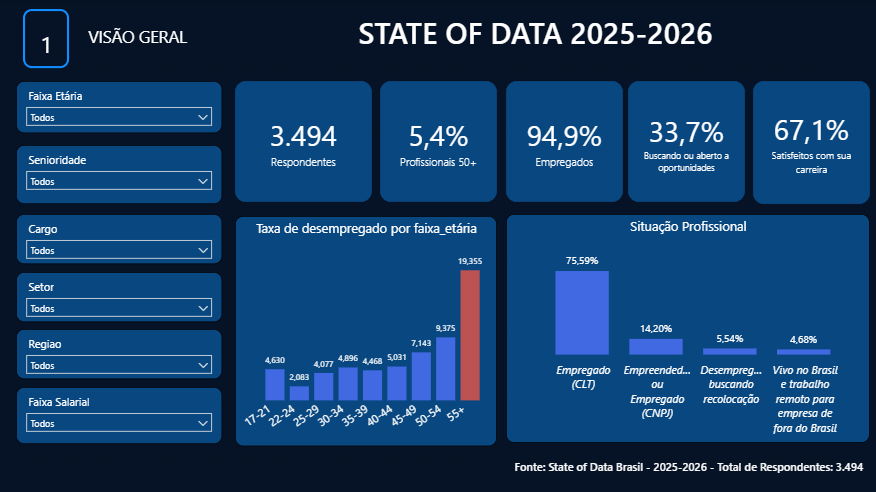

What the dashboard file says about the page in this screenshot:
{"tool":"powerbi","page":{"name":"Visão Geral","canvas":[1280,720],"ordinal":0},"visuals":[{"type":"cardVisual","fields":{"Data":["Medidas.total_respondentes"]},"box":[343.3,119.3,199.3,176],"z":0},{"type":"cardVisual","fields":{"Data":["Medidas.percentual_50_mais"]},"box":[554.2,119.3,170.2,176],"z":1000},{"type":"clusteredColumnChart","title":"Taxa de desempregado por faixa_etária ","fields":{"Category":["principal.faixa_idade"],"Y":["Medidas.taxa_desempregado"]},"box":[343.6,314.9,380.6,335.2],"z":2000},{"type":"cardVisual","title":"Empregados","fields":{"Data":["Medidas.percentual_empregados"]},"box":[737.5,119.3,170.2,176],"z":3000},{"type":"cardVisual","fields":{"Data":["Medidas.taxa_mobilidade"]},"box":[914.9,119.3,170.2,176],"z":4000},{"type":"cardVisual","fields":{"Data":["Medidas.percentual_satisfeitos"]},"box":[1096.7,119.3,170.2,178.9],"z":5000},{"type":"clusteredColumnChart","title":"Situação Profissional","fields":{"Category":["principal.situação_de_trabalho"],"Y":["Divide(CountNonNull(principal.ID), ScopedEval(CountNonNull(principal.ID), []))"]},"box":[737.7,313.3,528.8,333.5],"z":6000},{"type":"slicer","fields":{"Values":["principal.faixa_idade"]},"box":[25.3,119.6,299.6,75.6],"z":7000},{"type":"slicer","fields":{"Values":["principal.nivel"]},"box":[25.3,212.2,299.6,85.8],"z":8000},{"type":"slicer","fields":{"Values":["principal.setor"]},"box":[24.7,397.1,300,73.3],"z":9000},{"type":"slicer","fields":{"Values":["cargo_atual.cargo_atual"]},"box":[24.7,312.7,300,73.3],"z":10000},{"type":"slicer","fields":{"Values":["principal.regiao_onde_mora"]},"box":[24.7,480,300,73.3],"z":11000},{"type":"slicer","fields":{"Values":["principal.faixa_salarial"]},"box":[24.7,564.4,299.6,82.9],"z":12000},{"type":"textbox","box":[446.5,14.5,667.6,104.7],"z":13000},{"type":"textbox","box":[93.1,33.5,216.7,85.8],"z":14000},{"type":"textbox","box":[35.4,15.2,67.4,85.9],"z":15000},{"type":"textbox","box":[744.4,665.3,535.6,43.8],"z":16000}]}

Visuals, with their boxes in screenshot pixels (x1, y1, x2, y2), scaled from the page's 1280x720 canvas onto the 876x492 screenshot:
cardVisual - Medidas.total_respondentes: {"left": 235, "top": 82, "right": 371, "bottom": 202}
cardVisual - Medidas.percentual_50_mais: {"left": 379, "top": 82, "right": 496, "bottom": 202}
"Taxa de desempregado por faixa_etária " clusteredColumnChart: {"left": 235, "top": 215, "right": 496, "bottom": 444}
"Empregados" cardVisual: {"left": 505, "top": 82, "right": 621, "bottom": 202}
cardVisual - Medidas.taxa_mobilidade: {"left": 626, "top": 82, "right": 743, "bottom": 202}
cardVisual - Medidas.percentual_satisfeitos: {"left": 751, "top": 82, "right": 867, "bottom": 204}
"Situação Profissional" clusteredColumnChart: {"left": 505, "top": 214, "right": 867, "bottom": 442}
slicer - principal.faixa_idade: {"left": 17, "top": 82, "right": 222, "bottom": 133}
slicer - principal.nivel: {"left": 17, "top": 145, "right": 222, "bottom": 204}
slicer - principal.setor: {"left": 17, "top": 271, "right": 222, "bottom": 321}
slicer - cargo_atual.cargo_atual: {"left": 17, "top": 214, "right": 222, "bottom": 264}
slicer - principal.regiao_onde_mora: {"left": 17, "top": 328, "right": 222, "bottom": 378}
slicer - principal.faixa_salarial: {"left": 17, "top": 386, "right": 222, "bottom": 442}
textbox: {"left": 306, "top": 10, "right": 762, "bottom": 81}
textbox: {"left": 64, "top": 23, "right": 212, "bottom": 82}
textbox: {"left": 24, "top": 10, "right": 70, "bottom": 69}
textbox: {"left": 509, "top": 455, "right": 875, "bottom": 485}
